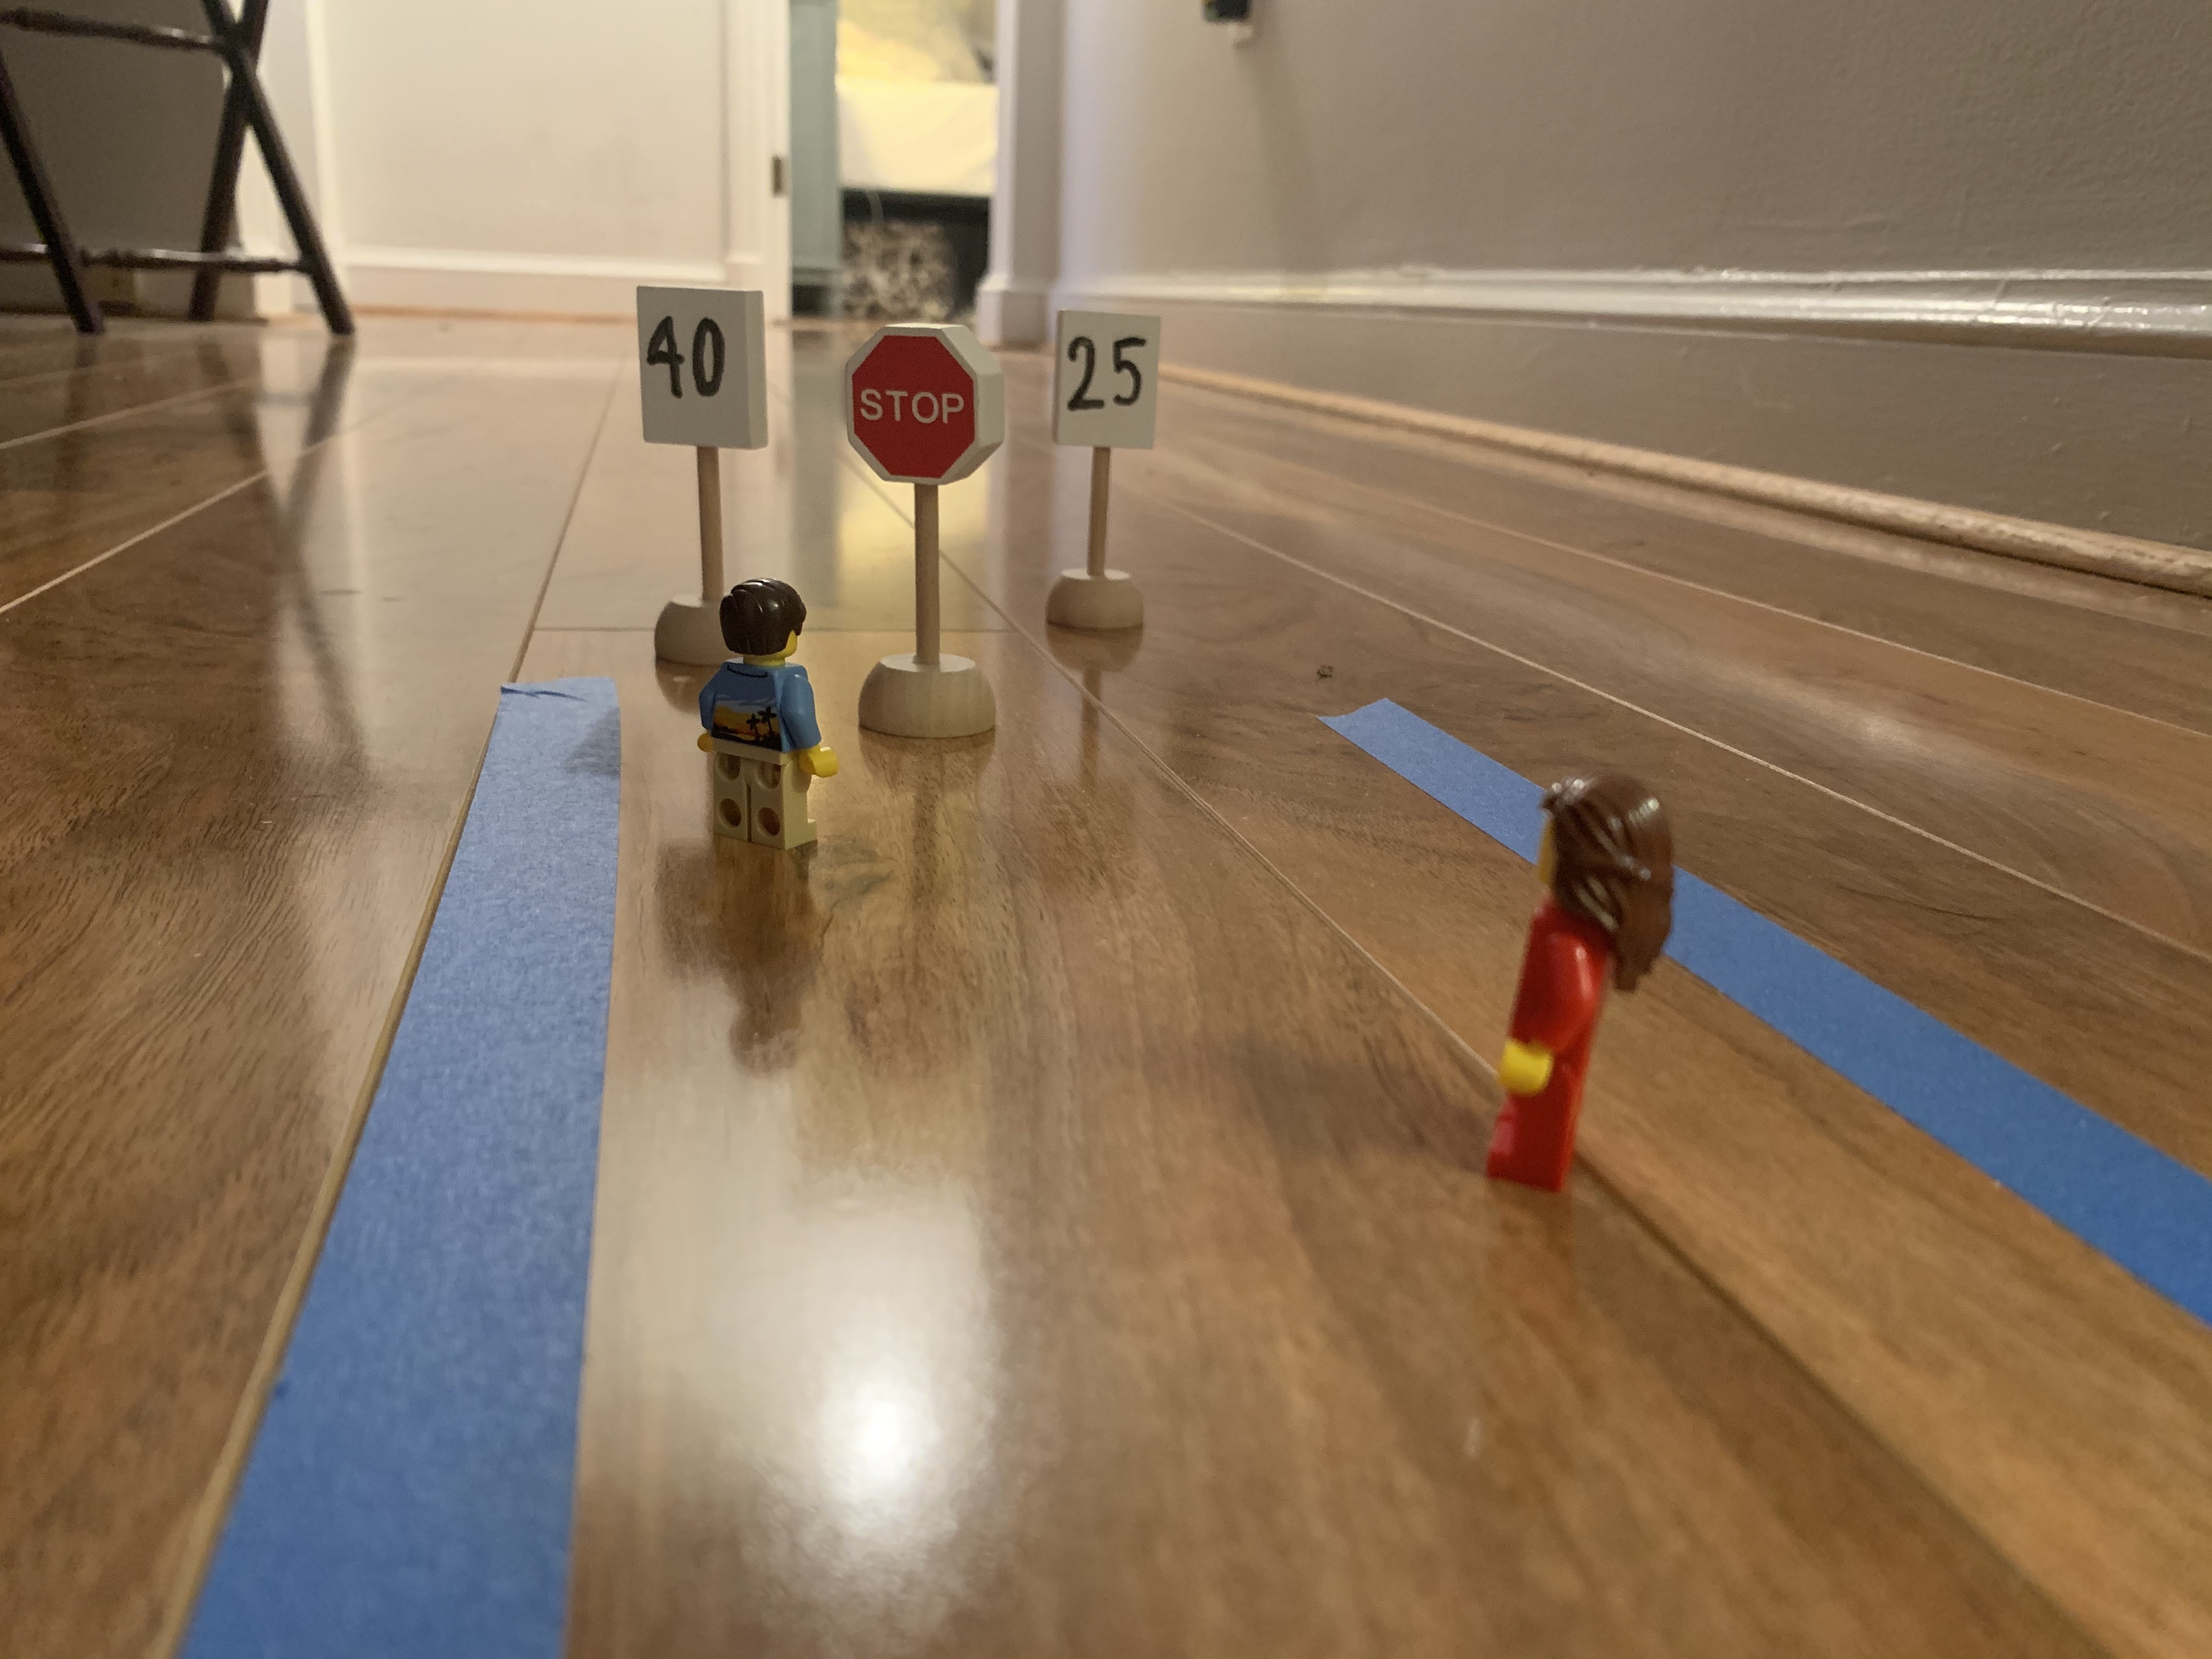Person: (1470, 758, 1693, 1217), (697, 576, 837, 874)
Speed Limit 25: (1059, 306, 1161, 447)
Speed Limit 40: (635, 290, 760, 448)
Stop Sign: (839, 324, 1009, 484)
